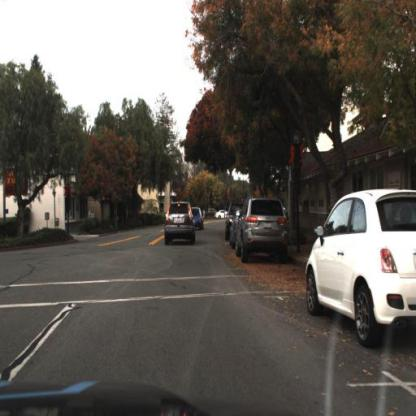car: (307, 189, 416, 353), (234, 197, 289, 263), (164, 200, 197, 250), (189, 206, 205, 233)
